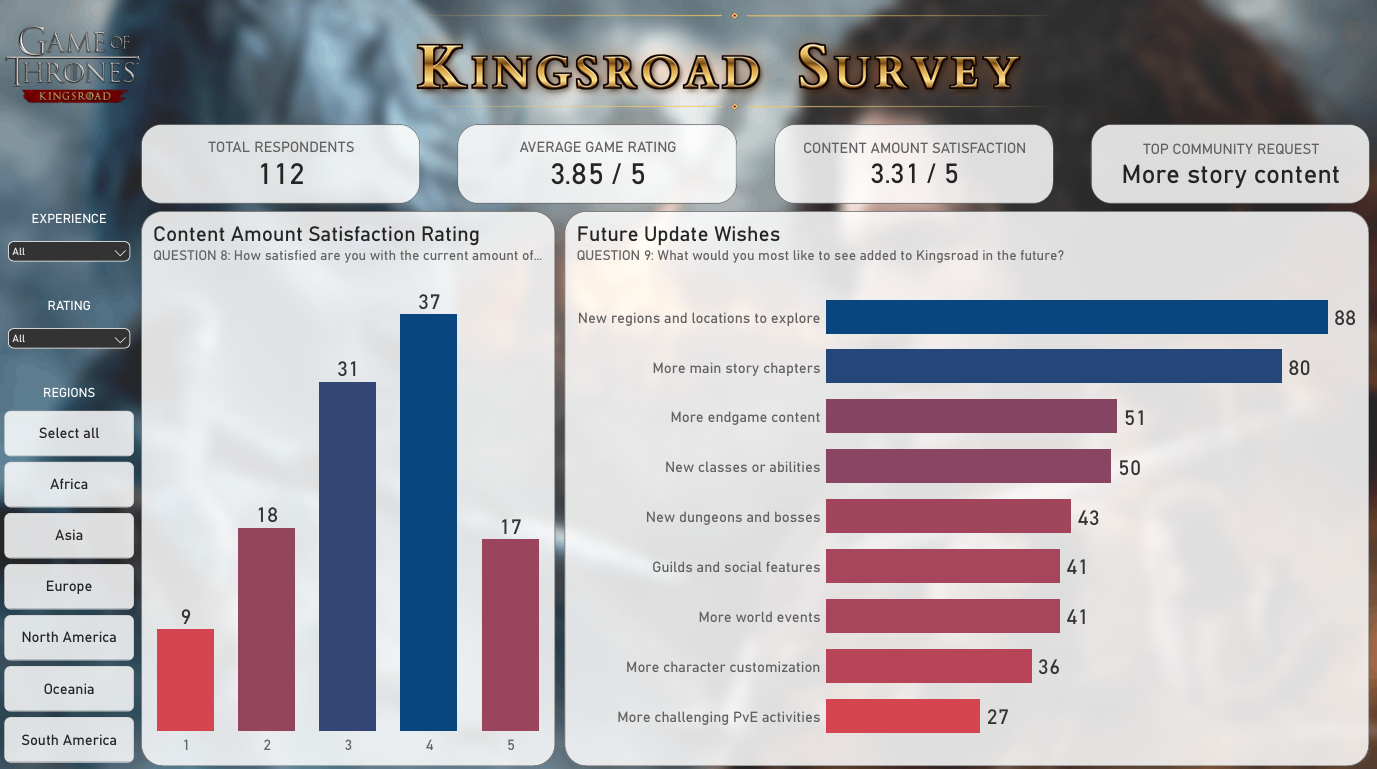

What the dashboard file says about the page in this screenshot:
{"tool":"powerbi","page":{"name":"Questions 8-9","canvas":[1920,1080],"ordinal":4},"visuals":[{"type":"image","box":[10.2,10.2,189.7,164.9],"z":0},{"type":"image","box":[551.5,0,930,175],"z":1000},{"type":"clusteredBarChart","title":"Future Update Wishes","fields":{"Category":["Community_Wishes_Table.Community_Wishes"],"Y":["CountNonNull(Community_Wishes_Table.Index)"]},"box":[788.7,296.5,1119.8,771.5],"z":2000},{"type":"columnChart","title":"Content Amount Satisfaction Rating","fields":{"Category":["Questions.How satisfied are you with the current amount of content in Kingsroad?"],"Y":["Formulas.Players_Count"]},"box":[200.1,296.5,575.7,771.5],"z":3000},{"type":"cardVisual","fields":{"Data":["Formulas.Players_Count"]},"box":[200,175,388.3,111],"z":4000},{"type":"cardVisual","fields":{"Data":["Formulas.Avg_Game_Rating_Card"]},"box":[640.3,175,388.3,111],"z":5000},{"type":"cardVisual","fields":{"Data":["Formulas.Top_Improvement"]},"box":[1521,175.1,388.3,111],"z":6000},{"type":"cardVisual","fields":{"Data":["Formulas.Avg_Content_Rating_Card"]},"box":[1080.7,175,388.3,111],"z":7000},{"type":"advancedSlicerVisual","title":"REGIONS","fields":{"Values":["Questions.Where are you playing from?"]},"box":[10.2,537.4,180,530],"z":8000},{"type":"slicer","title":"RATING","fields":{"Values":["Questions.Overall, how would you rate Game of Thrones: Kingsroad?"]},"box":[10,416.5,180.3,85],"z":9000},{"type":"slicer","title":"EXPERIENCE","fields":{"Values":["Questions.How long have you been playing Game of Thrones: Kingsroad?"]},"box":[10,295.7,180.3,85],"z":10000}]}

Visuals, with their boxes in screenshot pixels (x1, y1, x2, y2), scaled from the page's 1920x1080 canvas onto the 1377x769 screenshot:
image: 7/7/143/125
image: 396/0/1063/125
"Future Update Wishes" clusteredBarChart: 566/211/1369/760
"Content Amount Satisfaction Rating" columnChart: 144/211/556/760
cardVisual - Formulas.Players_Count: 143/125/422/204
cardVisual - Formulas.Avg_Game_Rating_Card: 459/125/738/204
cardVisual - Formulas.Top_Improvement: 1091/125/1369/204
cardVisual - Formulas.Avg_Content_Rating_Card: 775/125/1054/204
"REGIONS" advancedSlicerVisual: 7/383/136/760
"RATING" slicer: 7/297/136/357
"EXPERIENCE" slicer: 7/211/136/271
